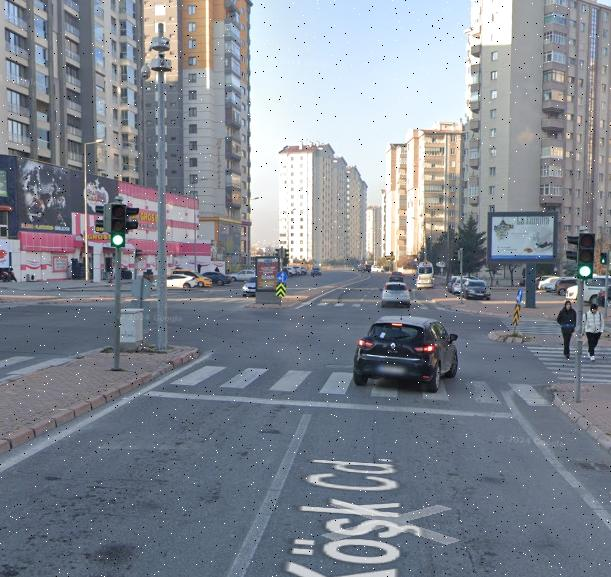greenlight: (578, 233, 596, 279), (110, 204, 126, 248)
